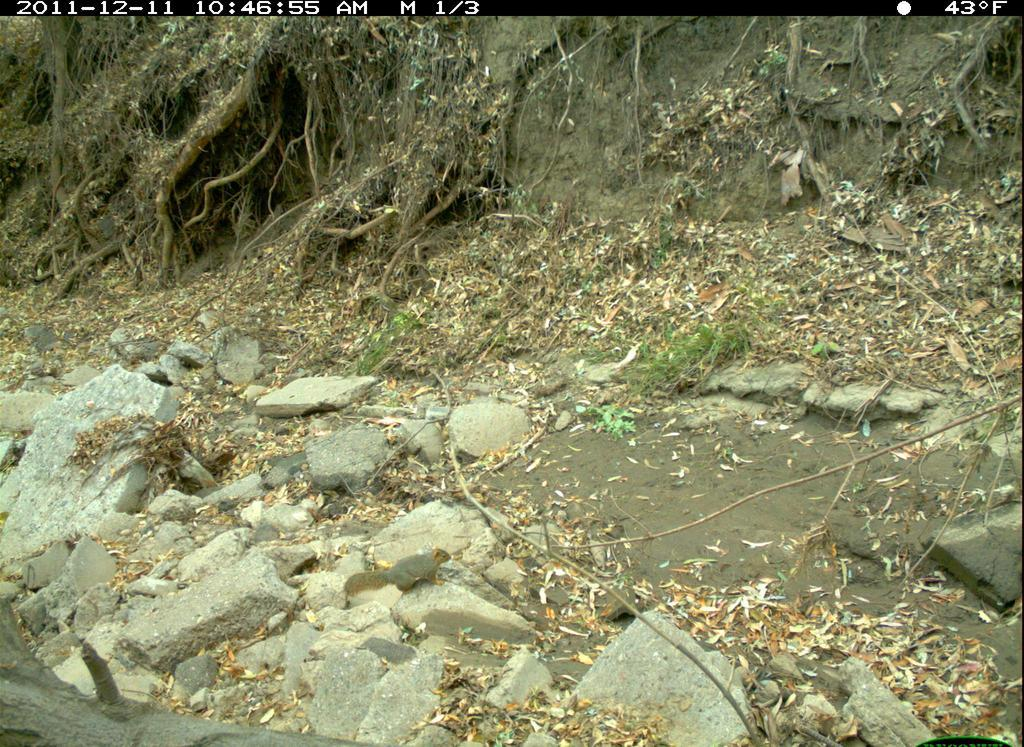squirrel: (340, 540, 458, 610)
